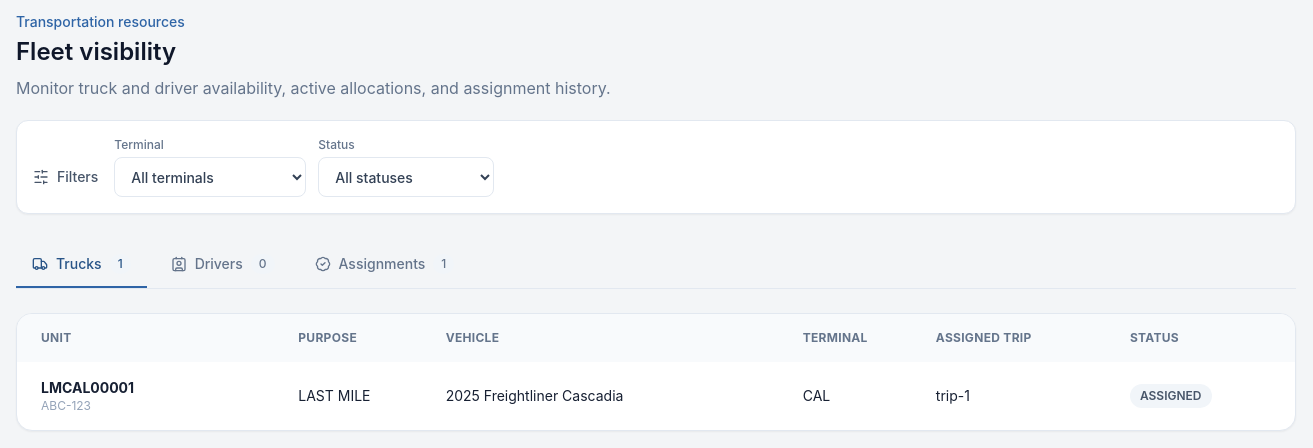
Test case: FleetPage › shows snapshot-backed trucks and assignment history
The width and height of the screenshot is (1313, 448).
Expected: the text "LMCAL00001" is shown, [41, 379, 134, 396]
Expected: the text "LAST MILE" is shown, [297, 362, 445, 430]
Step 1. Click the button "Assignments 1" → (384, 265), box [298, 242, 470, 288]
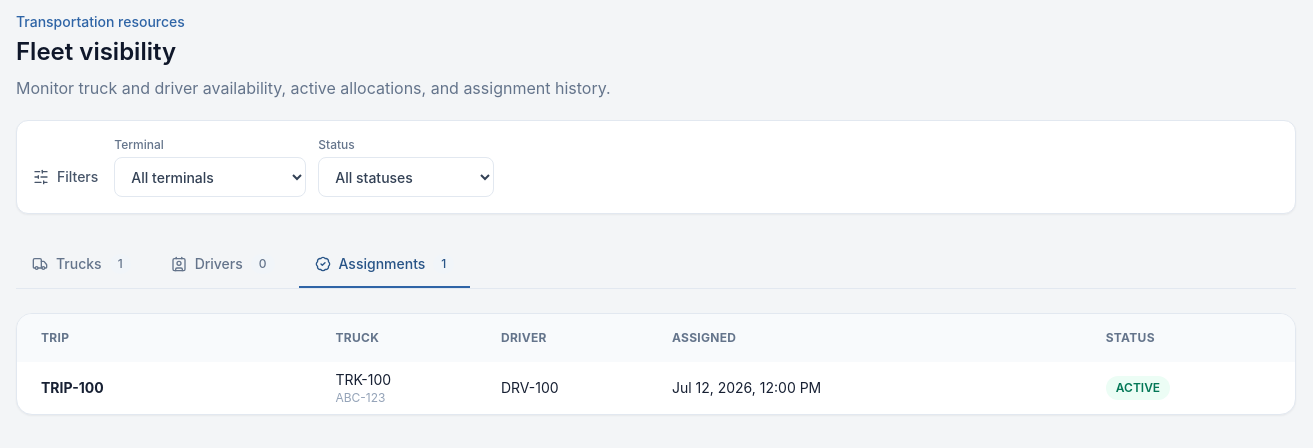
Expected: the text "TRIP-100" is shown, [41, 379, 104, 396]
Expected: the text "DRV-100" is shown, [500, 362, 671, 414]
